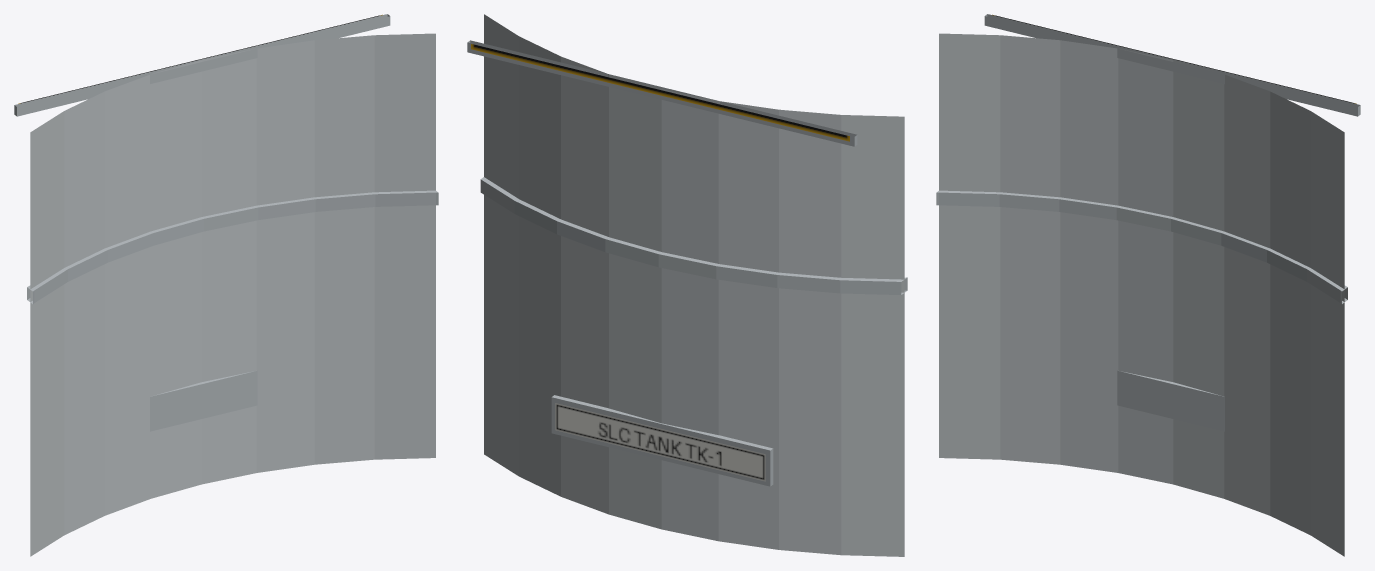
Rendered from cell_10.obj.
3 views of the same model, side by side, from view 1: azimuth 30°, elevation 25°; view 2: azimuth 150°, elevation 25°; view 3: azimuth 330°, elevation 25° (orthographic). The views are drawn at different scales.
Bounding box in the file's own units: 1 × 1 × 0.158.
